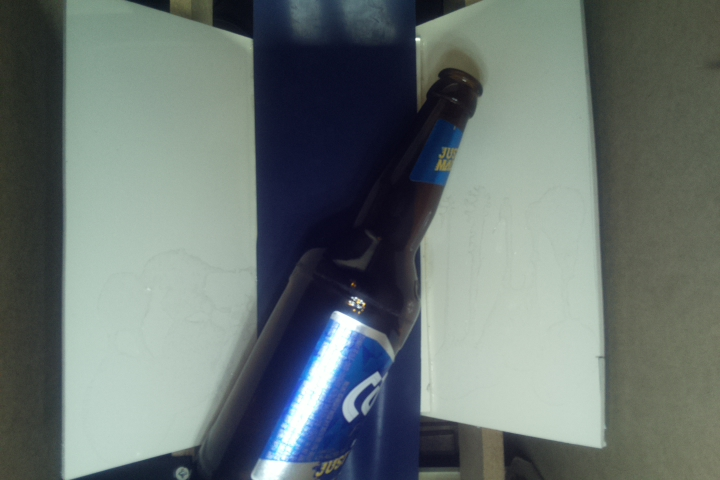makju: (187, 67, 487, 480)
